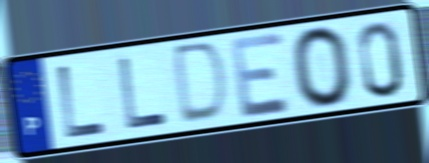0: (355, 17, 408, 100)
D: (173, 39, 231, 128)
E: (228, 29, 294, 121)
L: (55, 62, 109, 141), (116, 54, 169, 131)
O: (288, 23, 355, 110)
